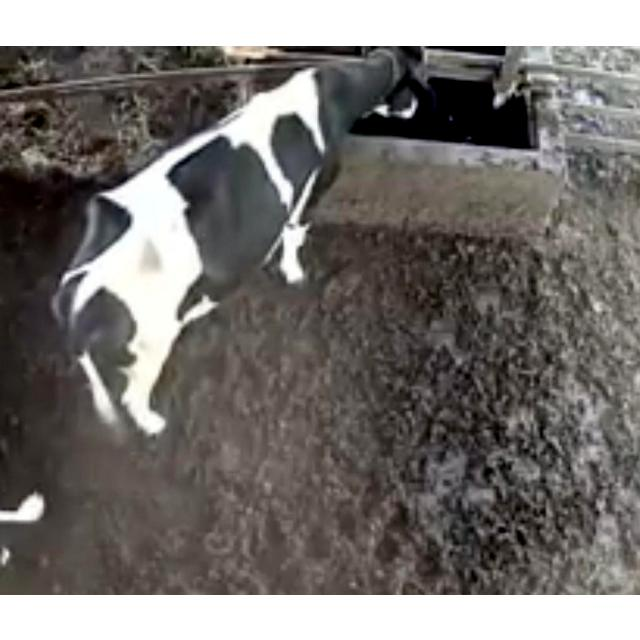drink: (311, 44, 445, 136)
